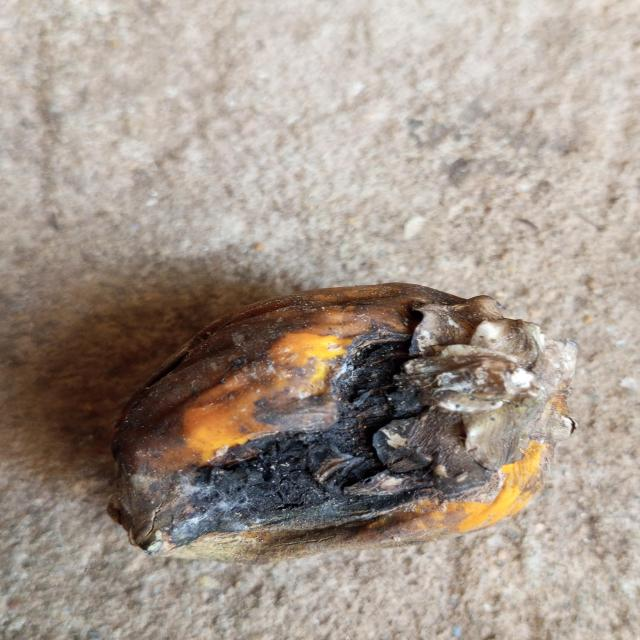damaged: (111, 283, 574, 563)
